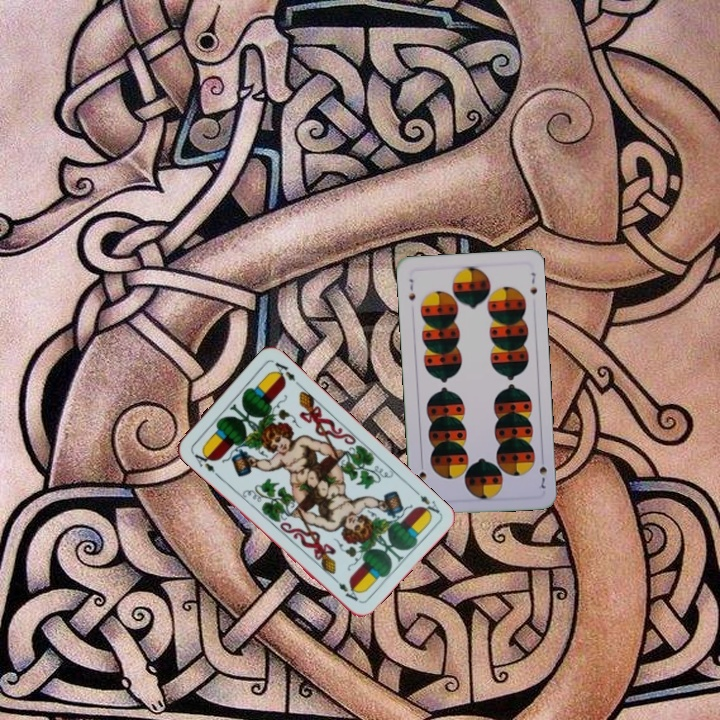EA: (187, 446, 221, 479), (409, 485, 442, 519)
S7: (535, 452, 550, 491), (405, 275, 418, 303)
